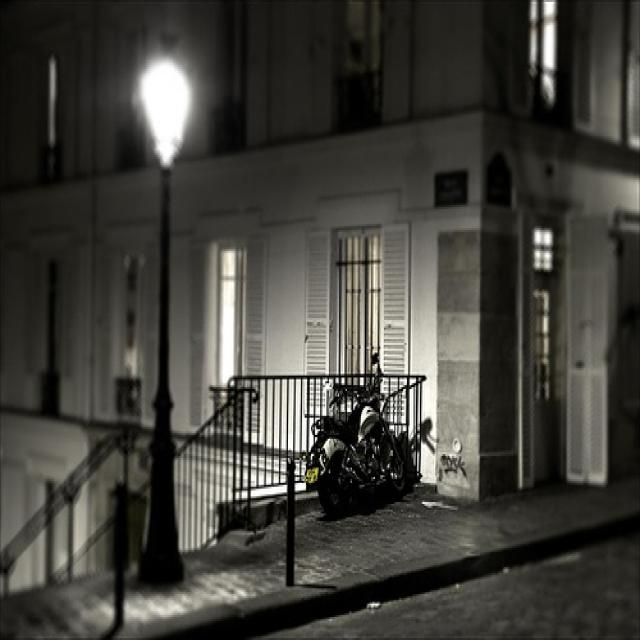motorbike: (304, 354, 408, 518)
